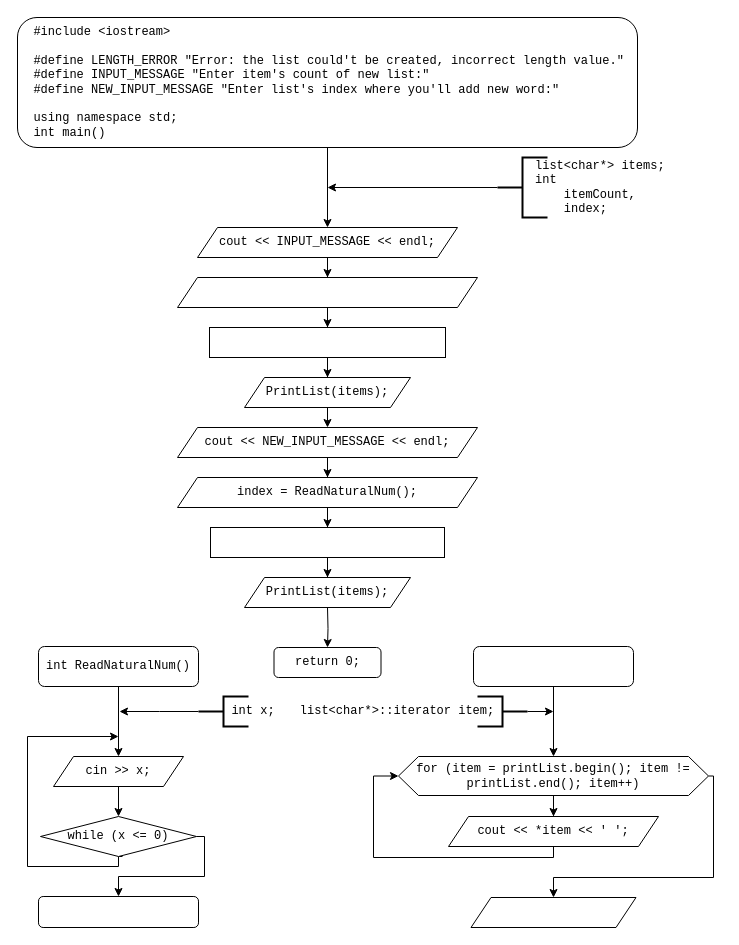
Some shapes in this 739 by 945 pixel diagram are drawn without their labels. The box of each missing label's shape, as (x1, y1, x2, y2) in pixels:
Add(items,"KONICHIWA", index);: (210, 526, 444, 558)
cout << endl;: (470, 896, 636, 928)
items = NewList(itemCount);: (208, 326, 446, 358)
itemsCount = ReadNaturalNum();: (176, 276, 478, 308)
return x;: (38, 896, 198, 928)
void PrintList(): (472, 646, 634, 686)
